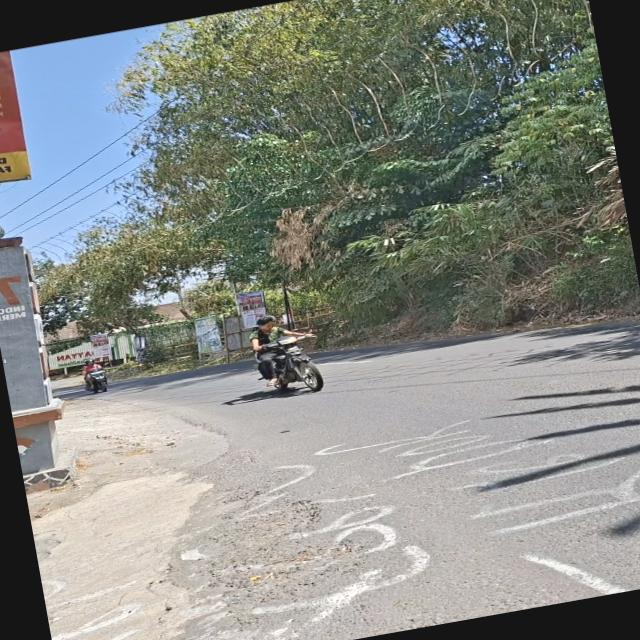WithHelmet: (78, 356, 107, 391)
WithoutHelmet: (246, 307, 322, 389)
